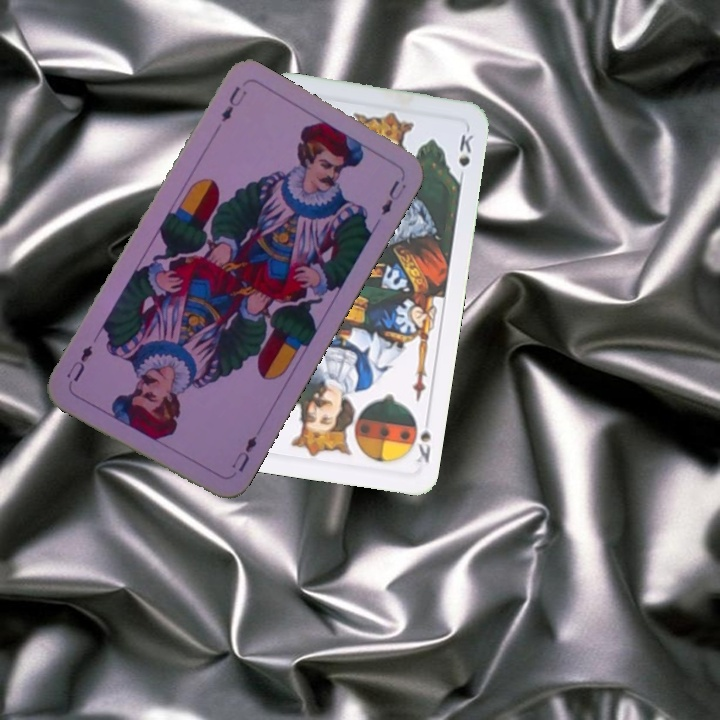EU: (217, 82, 250, 125), (232, 431, 260, 475)
SK: (412, 411, 434, 466)
